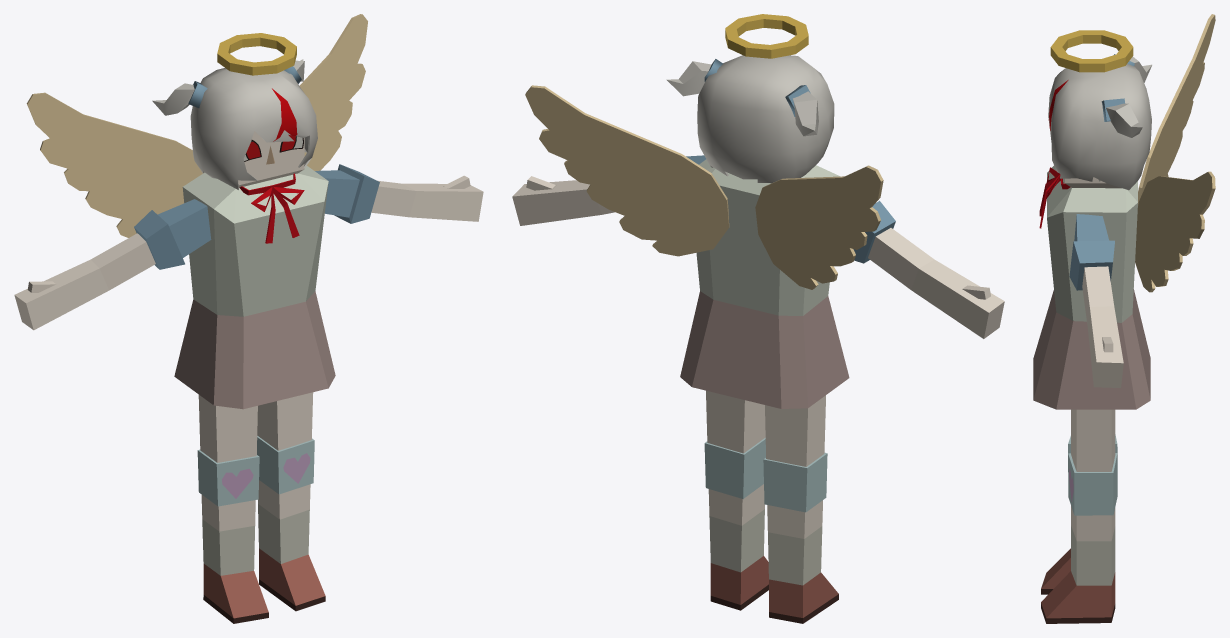
The model's file is Angel defend.fbx.
The picture shows the model from 3 angles, left to right: view 1: azimuth 30°, elevation 25°; view 2: azimuth 150°, elevation 25°; view 3: azimuth 270°, elevation 25°; orthographic projection. The views are drawn at different scales.
Parts seen in each view (by area): view 1: Angel; view 2: Angel; view 3: Angel.
Boxes of the visible parts, box(x1,y1,x2,y2) form: Angel: box(14, 14, 483, 623); Angel: box(512, 14, 1004, 623); Angel: box(1033, 14, 1215, 623).
Size of the model in its own units: 535 by 610 by 182.
